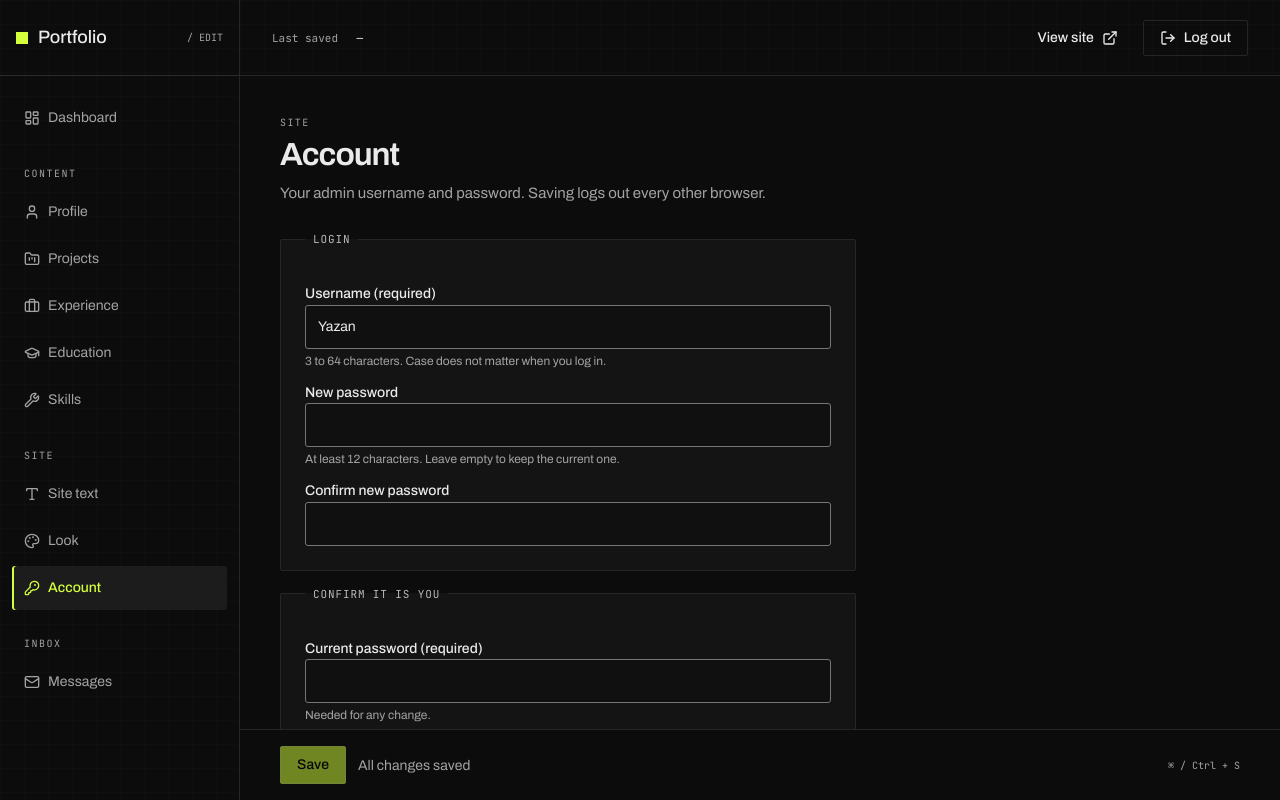
AdminAccount › changing the username needs the current password and sends no new password
Replace the text in the field labelled "Username (required)" with "Admin2" at (568, 327), box x1=305 y1=305 x2=831 y2=349
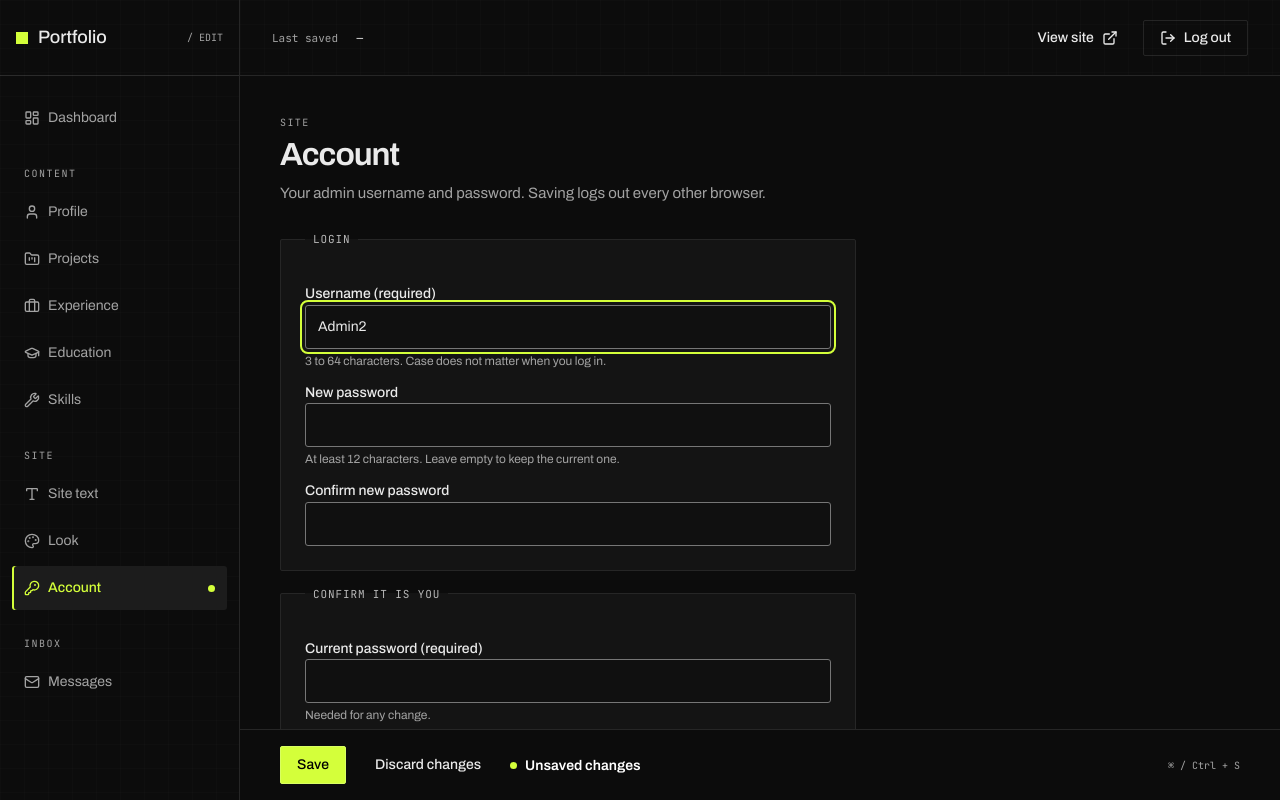
Click the button "Save" at (313, 765), box x1=280 y1=746 x2=346 y2=784
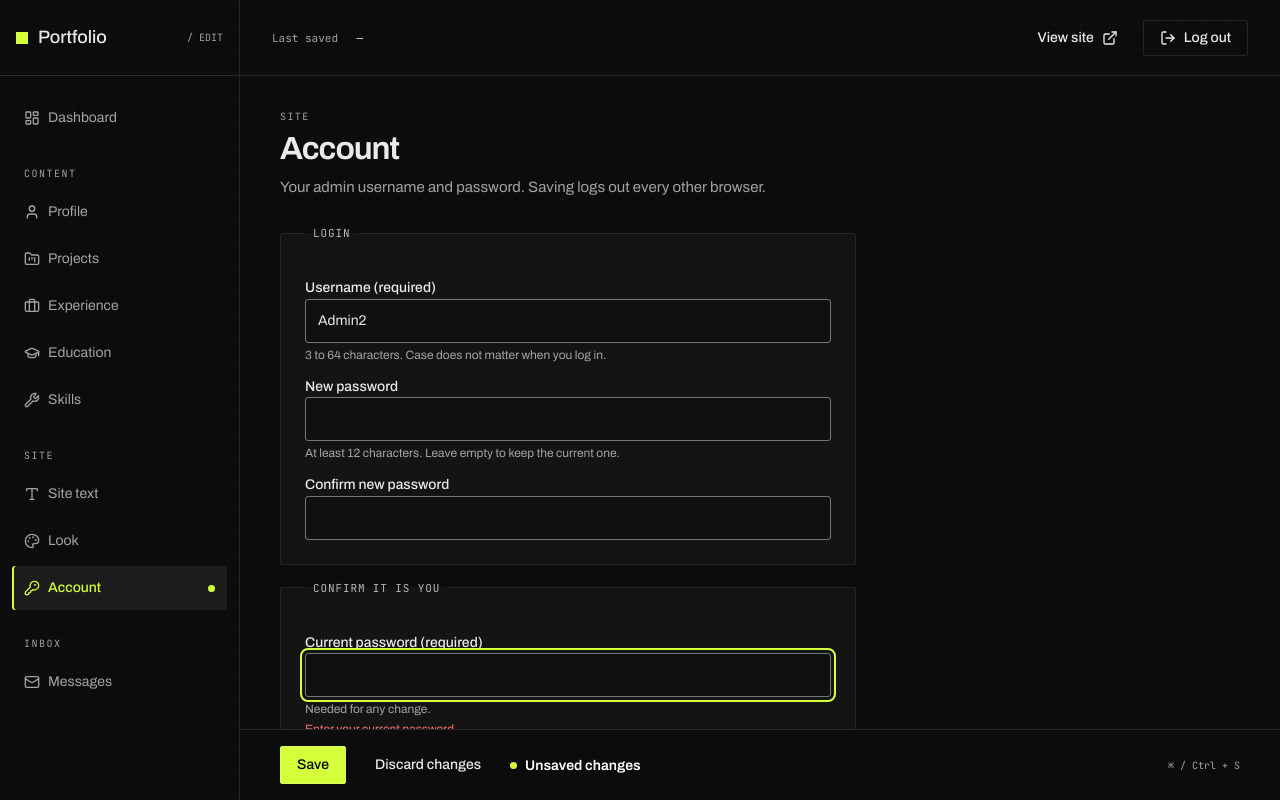
Type "the current password" into the password field labelled "Current password (required)" at (568, 675), box x1=305 y1=653 x2=831 y2=697
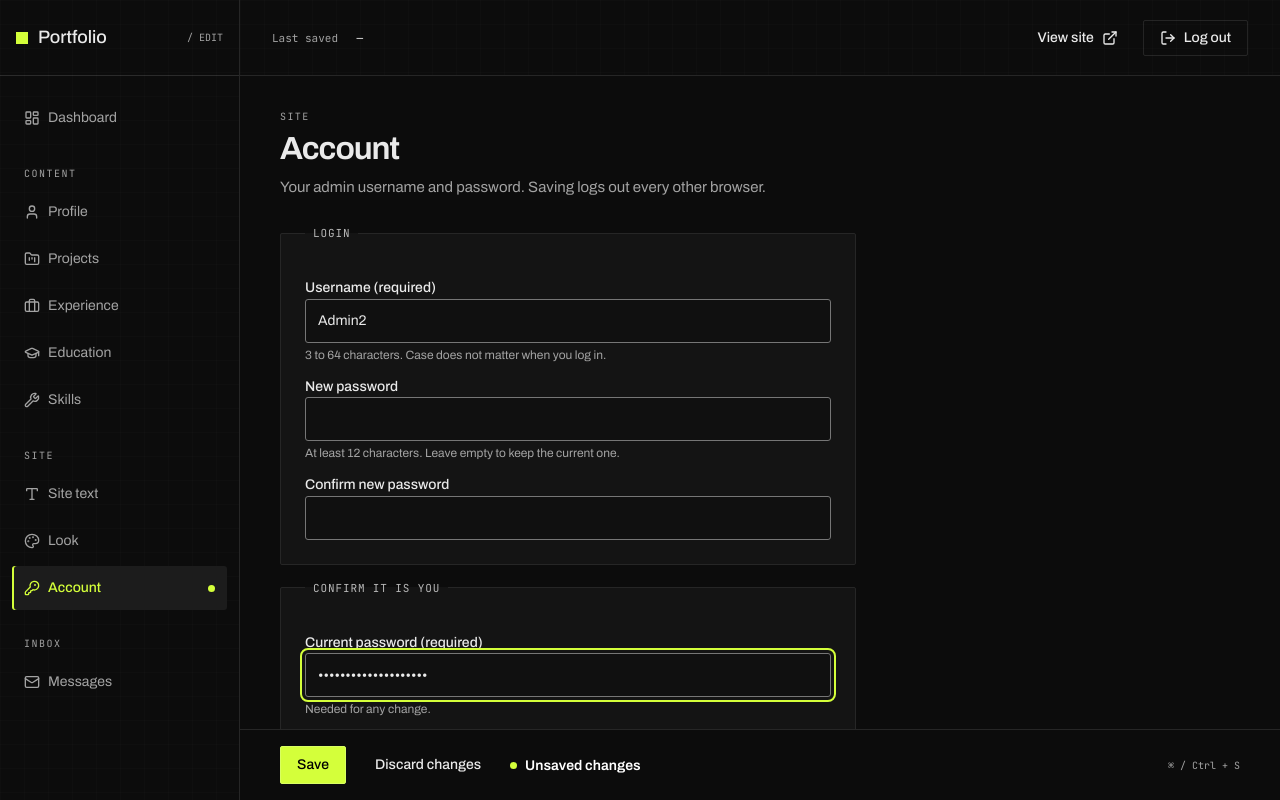
Click the button "Save" at (313, 765), box x1=280 y1=746 x2=346 y2=784
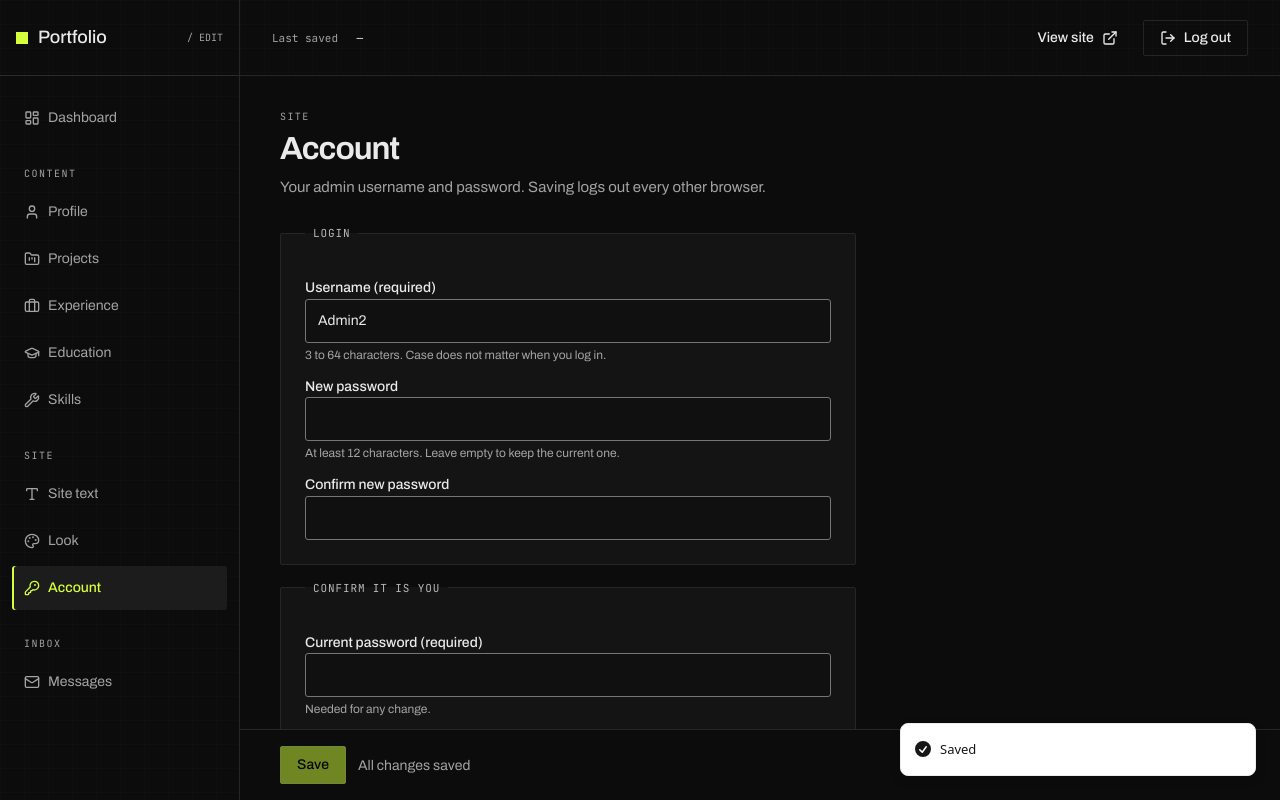
Now the text "Saved" is shown, box x1=940 y1=740 x2=976 y2=759
Now the password field labelled "Current password (required)" is empty, box x1=305 y1=653 x2=831 y2=697
